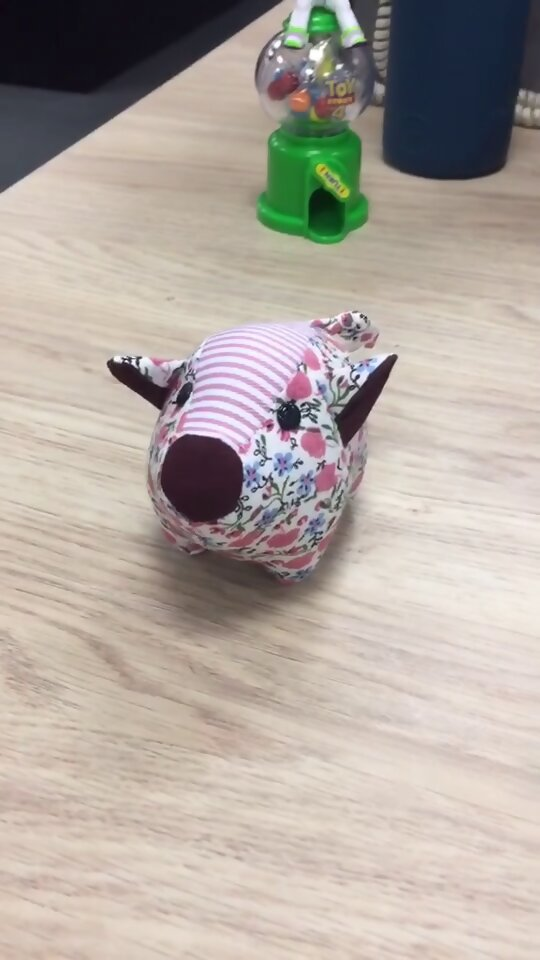pig: (105, 305, 401, 586)
